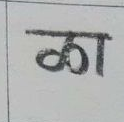aa_matra: (98, 37, 104, 73)
